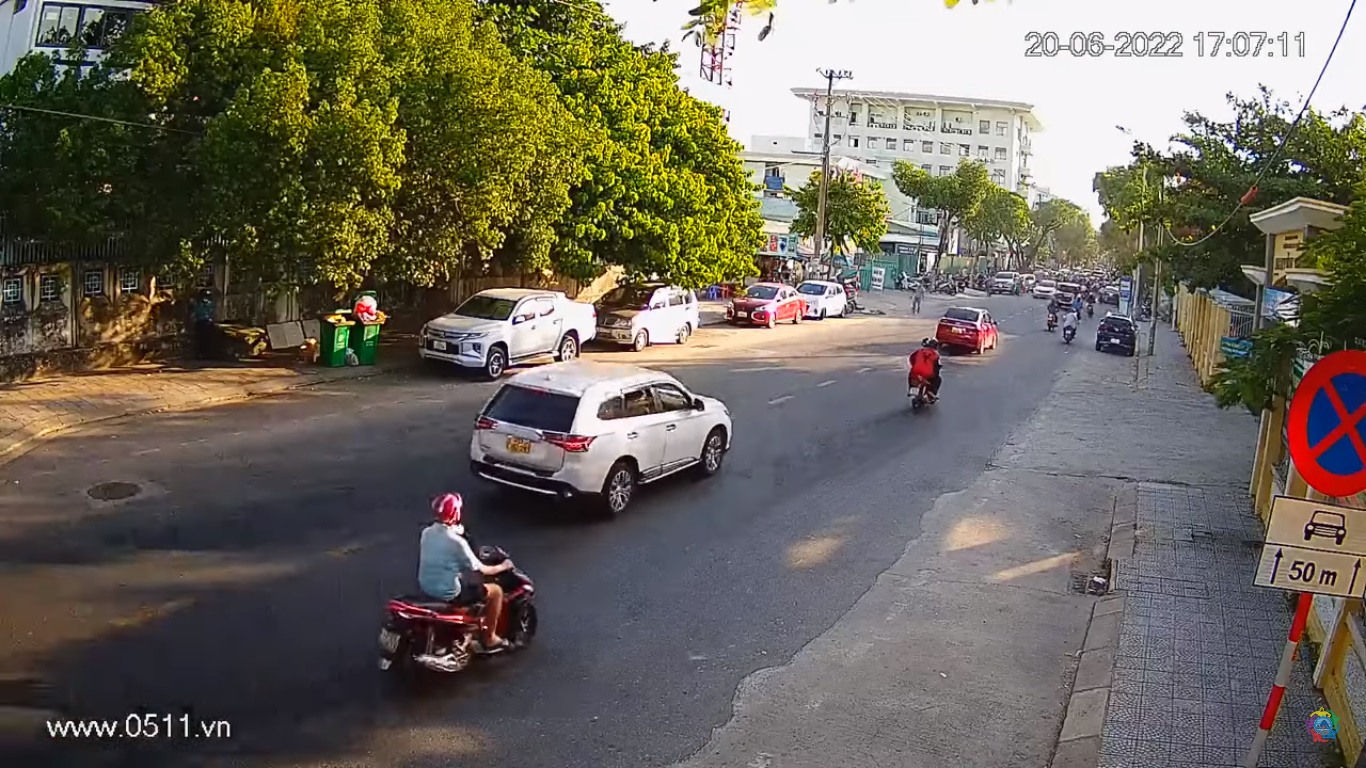car: (465, 360, 736, 517)
